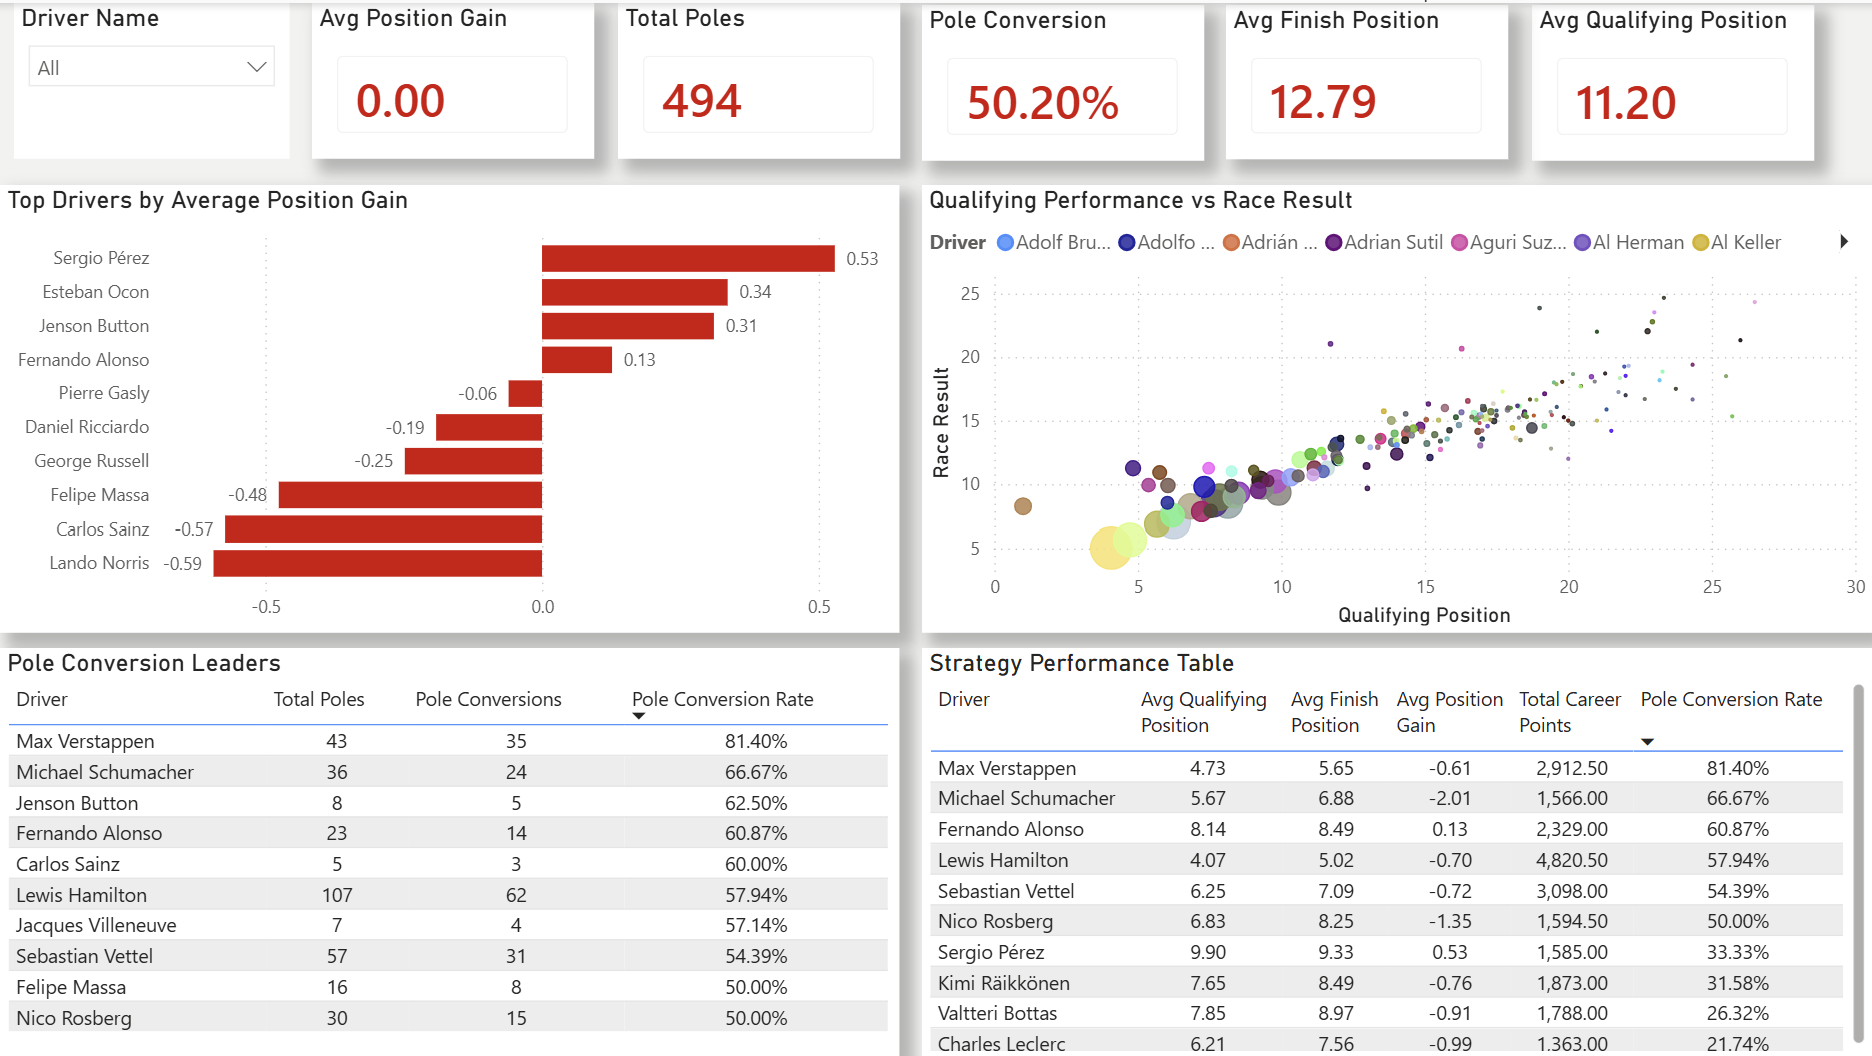

The page's visual inventory and layout, read from the dashboard file:
{"tool":"powerbi","page":{"name":"Strategy & Racecraft Analysis","canvas":[1280,720],"ordinal":3},"visuals":[{"type":"slicer","title":"Driver Name","fields":{"Values":["driver_kpis.driver_name"]},"box":[9.6,0,188.7,106.7],"z":0},{"type":"cardVisual","title":"Avg Position Gain","fields":{"Data":["driver_kpis.Avg Position Gain KPI"]},"box":[213.3,0,192.8,106.7],"z":1000},{"type":"cardVisual","title":"Total Poles","fields":{"Data":["driver_kpis.Total Poles"]},"box":[422.6,0,192.8,106.7],"z":2000},{"type":"cardVisual","title":"Pole Conversion","fields":{"Data":["driver_kpis.Pole Conversion %"]},"box":[630.4,1.4,192.8,106.7],"z":3000},{"type":"cardVisual","title":"Avg Qualifying Position","fields":{"Data":["driver_kpis.Avg Qualifying Position"]},"box":[1047.5,1.4,192.8,106.7],"z":4000},{"type":"cardVisual","title":"Avg Finish Position","fields":{"Data":["driver_kpis.Avg Finish Position KPI"]},"box":[838.3,1.4,192.8,105.3],"z":5000},{"type":"barChart","title":"Top Drivers by Average Position Gain","fields":{"Category":["f1_features_dataset.driver_name"],"Y":["Avg(f1_features_dataset.position_gain)"]},"box":[0,124.3,614.8,305.7],"z":6000},{"type":"scatterChart","title":"Qualifying Performance vs Race Result","fields":{"X":["Avg(f1_features_dataset.qualifying_position)"],"Y":["Avg(f1_features_dataset.positionOrder)"],"Series":["f1_features_dataset.driver_name"],"Size":["Sum(f1_features_dataset.points)"]},"box":[629.9,124.3,650.1,305.7],"z":7000},{"type":"tableEx","title":"Pole Conversion Leaders","fields":{"Values":["f1_features_dataset.driver_name","driver_kpis.Total Poles","driver_kpis.Pole Conversions","driver_kpis.Pole Conversion Rate"]},"box":[0,440.1,614.8,280.5],"z":8000},{"type":"tableEx","title":"Strategy Performance Table","fields":{"Values":["f1_features_dataset.driver_name","driver_kpis.Avg Qualifying Position","driver_kpis.Average Finish Position","driver_kpis.avg_position_gain","driver_kpis.Total Career Points","driver_kpis.Pole Conversion Rate"]},"box":[629.9,440.1,650.1,280.5],"z":9000}]}

Visuals, with their boxes in screenshot pixels (x1, y1, x2, y2), scaled from the page's 1280x720 canvas onto the 1872x1056 screenshot:
"Driver Name" slicer: l=14, t=0, r=290, b=156
"Avg Position Gain" cardVisual: l=312, t=0, r=594, b=156
"Total Poles" cardVisual: l=618, t=0, r=900, b=156
"Pole Conversion" cardVisual: l=922, t=2, r=1204, b=159
"Avg Qualifying Position" cardVisual: l=1532, t=2, r=1814, b=159
"Avg Finish Position" cardVisual: l=1226, t=2, r=1508, b=156
"Top Drivers by Average Position Gain" barChart: l=0, t=182, r=899, b=631
"Qualifying Performance vs Race Result" scatterChart: l=921, t=182, r=1871, b=631
"Pole Conversion Leaders" tableEx: l=0, t=645, r=899, b=1055
"Strategy Performance Table" tableEx: l=921, t=645, r=1871, b=1055
